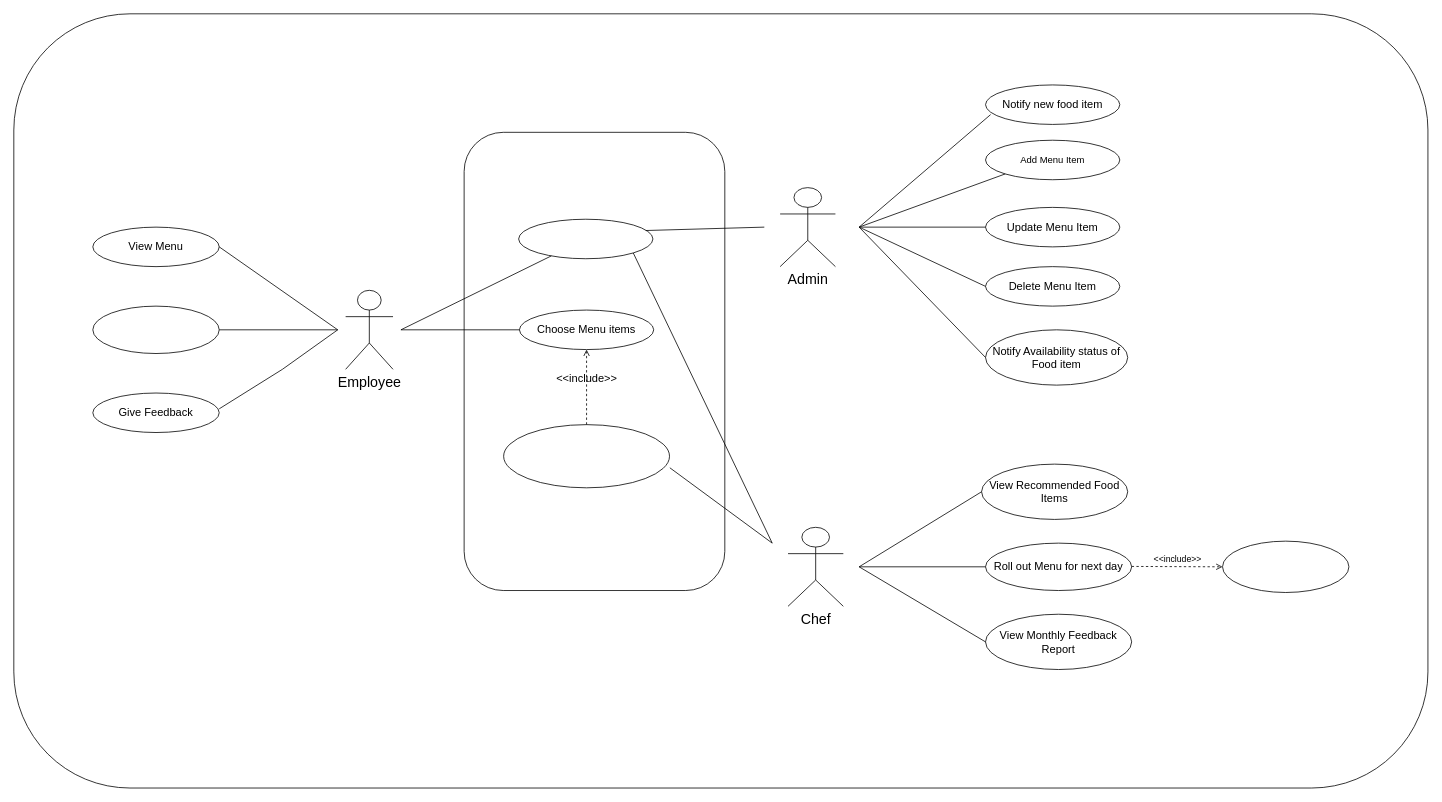
This 1442x802 diagram has some shape labels left out. The box of each missing label's shape, as (x1, y1, x2, y2) in pixels:
Finalize menu based on votes: (503, 424, 670, 488)
Login: (518, 218, 653, 259)
Notify Employees for voting: (1222, 540, 1349, 592)
View Notifications: (92, 305, 219, 354)
